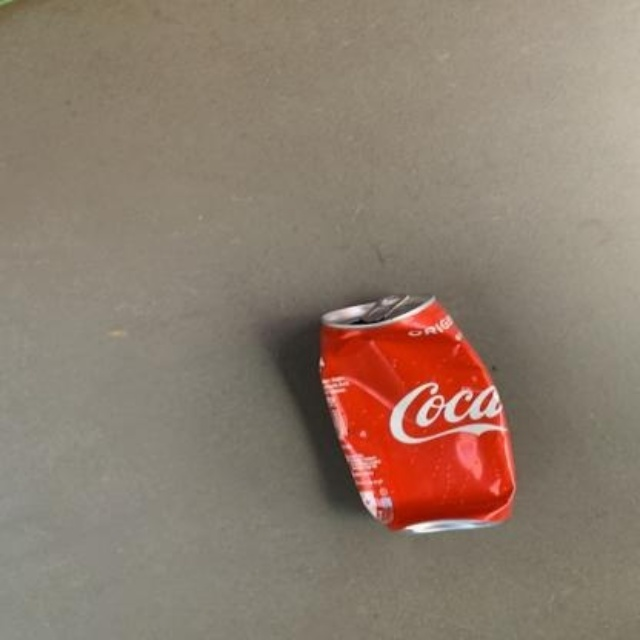trash: (320, 295, 514, 531)
